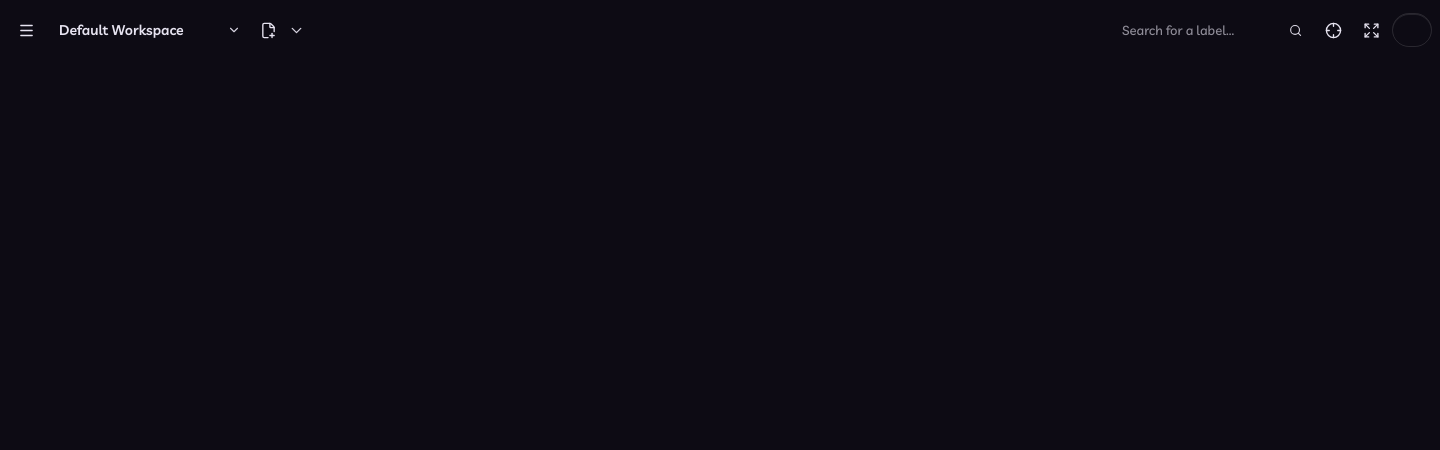
Test: TopBar › renders AuthForm in profile tab when user is guest
Note: Open account menu
Click the button named "menu".
click(26, 30)  # box [8,12,44,48]
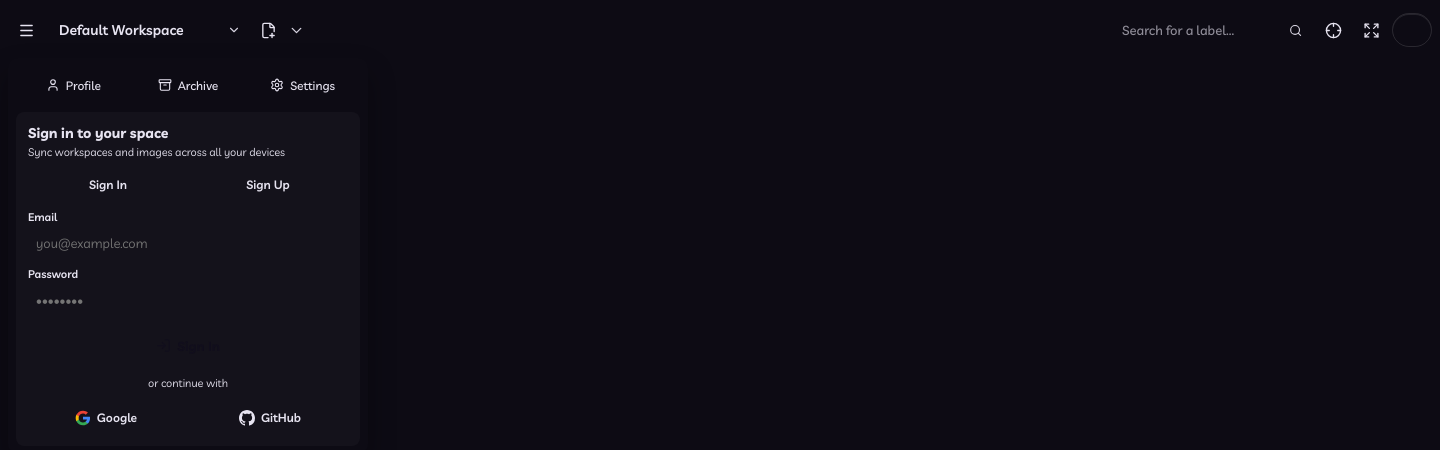
Expected: the tab "Sign In" is shown, [28,170,188,200]
Expected: the tab "Sign Up" is shown, [188,170,348,200]
Expected: the button with aria-label "sign in with google" is shown, [28,402,184,434]
